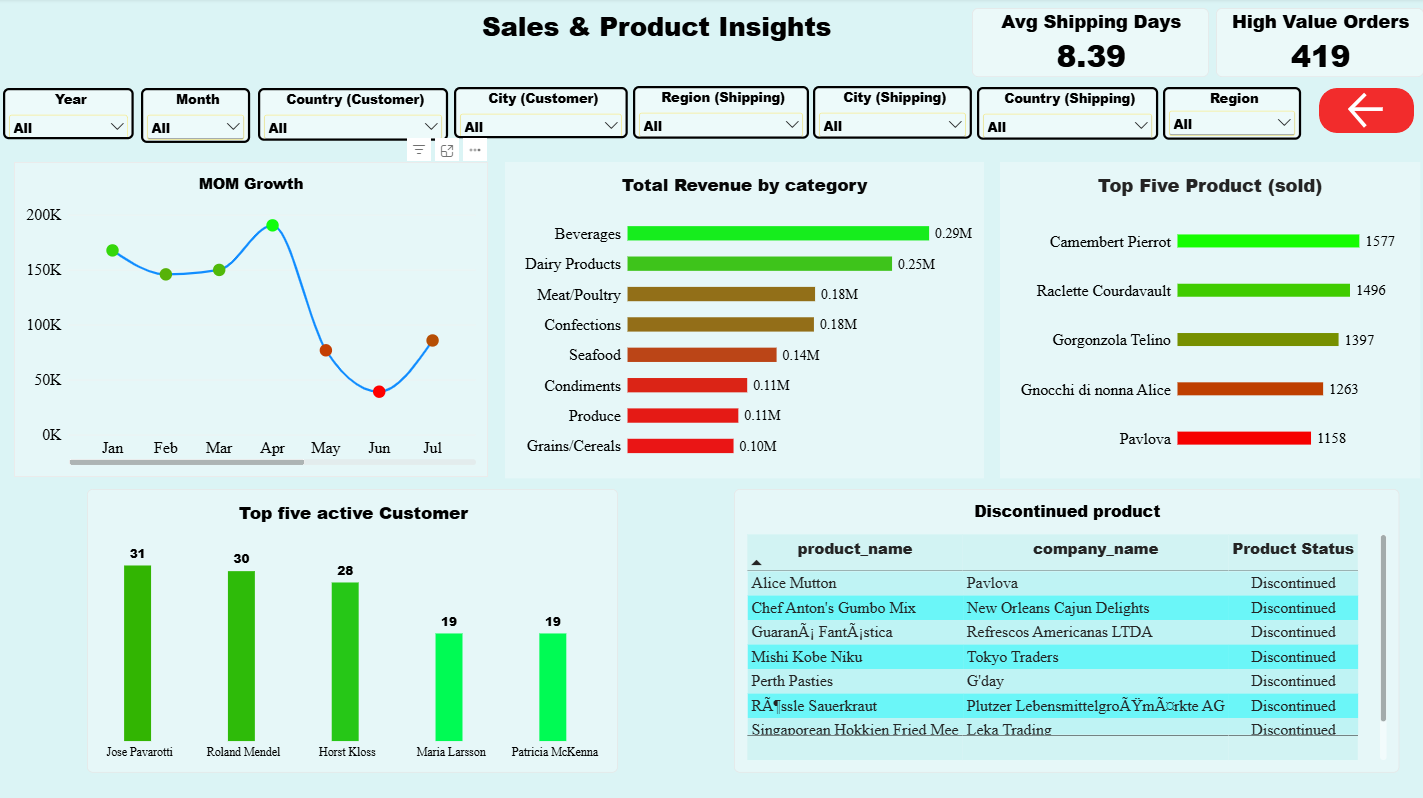

The dashboard page shown, as its layout file describes it:
{"tool":"powerbi","page":{"name":"Sales & Product Insights1","canvas":[1920,1080],"ordinal":0},"visuals":[{"type":"cardVisual","fields":{"Data":["_measures (3).High Value Orders Count"]},"box":[1637.5,13.9,280.7,93.6],"z":0},{"type":"slicer","title":"City (Customer)","fields":{"Values":["public v_pbi_dim_customers.city"]},"box":[611.7,119.9,234.3,68.7],"z":0,"group":"g1"},{"type":"cardVisual","fields":{"Data":["_measures (3).Average Shipping Days"]},"box":[1309.6,13.9,319.6,94],"z":1000},{"type":"slicer","title":"Country (Customer)","fields":{"Values":["public v_pbi_dim_customers.country"]},"box":[347.8,121.2,255.9,71.4],"z":1000,"group":"g1"},{"type":"slicer","title":"Year","fields":{"Values":["Date Table.Year"]},"box":[4.4,121.2,176.4,68.7],"z":2000,"group":"g1"},{"type":"group","id":"g1","title":"Slicer menu","box":[4.4,118.1,1899.6,77.2],"z":3000},{"type":"slicer","title":"City (Shipping)","fields":{"Values":["public v_pbi_fact_sales.city"]},"box":[1095.2,118.1,214.1,71.4],"z":3000,"group":"g1"},{"type":"slicer","title":"Country (Shipping)","fields":{"Values":["public v_pbi_fact_sales.country"]},"box":[1316,119.4,243.7,71.4],"z":4000,"group":"g1"},{"type":"lineChart","title":"MOM Growth","fields":{"Category":["Date Table.Month Name"],"Y":["_measures (3).Total Revenue"]},"box":[18.9,220.8,638.3,424.2],"z":4000},{"type":"slicer","title":"Month","fields":{"Values":["Date Table.Month Name"]},"box":[190.2,121.2,146.8,74.1],"z":5000,"group":"g1"},{"type":"clusteredBarChart","title":"Top Five Product (sold)","fields":{"Category":["public v_pbi_dim_products.product_name"],"Y":["_measures (3).Total Quantity Sold"]},"box":[1346.6,220.8,565.6,425.5],"z":5000},{"type":"slicer","title":"Region (Shipping)","fields":{"Values":["public v_pbi_dim_ship_region.shipregion"]},"box":[852.8,118.5,237,71.4],"z":6000,"group":"g1"},{"type":"tableEx","title":"Discontinued product","fields":{"Values":["public v_pbi_dim_products.product_name","public v_pbi_dim_suppliers.company_name","_measures (3).Discontinued Status"]},"box":[988.4,661.2,895.5,382.4],"z":6000},{"type":"slicer","title":"Region ","fields":{"Values":["public v_pbi_dim_regions.region_description"]},"box":[1566,119.4,185.8,71.4],"z":7000,"group":"g1"},{"type":"clusteredBarChart","title":"Total Revenue by category","fields":{"Category":["public v_pbi_dim_categories.category_name"],"Y":["_measures (3).Total Revenue"]},"box":[680,220.8,645,425.5],"z":7000},{"type":"actionButton","title":"left arrow","box":[1776,120.7,127.9,60.6],"z":8000,"group":"g1"},{"type":"clusteredColumnChart","title":" Top five active Customer","fields":{"Category":["public v_pbi_dim_customers.contact_name"],"Y":["_measures (3).Active Customer Orders"]},"box":[117.2,661.2,715.1,382.4],"z":8000},{"type":"shape","title":"Sales & Product Insights","box":[557.5,13.5,653.6,53.3],"z":9000}]}

Visuals, with their boxes in screenshot pixels (x1, y1, x2, y2), scaled from the page's 1920x1080 canvas onto the 1423x798 screenshot:
cardVisual - _measures (3).High Value Orders Count: <region>1214, 10, 1422, 79</region>
"City (Customer)" slicer: <region>453, 89, 627, 139</region>
cardVisual - _measures (3).Average Shipping Days: <region>971, 10, 1207, 80</region>
"Country (Customer)" slicer: <region>258, 90, 447, 142</region>
"Year" slicer: <region>3, 90, 134, 140</region>
"Slicer menu" group: <region>3, 87, 1411, 144</region>
"City (Shipping)" slicer: <region>812, 87, 970, 140</region>
"Country (Shipping)" slicer: <region>975, 88, 1156, 141</region>
"MOM Growth" lineChart: <region>14, 163, 487, 477</region>
"Month" slicer: <region>141, 90, 250, 144</region>
"Top Five Product (sold)" clusteredBarChart: <region>998, 163, 1417, 478</region>
"Region (Shipping)" slicer: <region>632, 88, 808, 140</region>
"Discontinued product" tableEx: <region>733, 489, 1396, 771</region>
"Region " slicer: <region>1161, 88, 1298, 141</region>
"Total Revenue by category" clusteredBarChart: <region>504, 163, 982, 478</region>
"left arrow" actionButton: <region>1316, 89, 1411, 134</region>
" Top five active Customer" clusteredColumnChart: <region>87, 489, 617, 771</region>
"Sales & Product Insights" shape: <region>413, 10, 898, 49</region>
